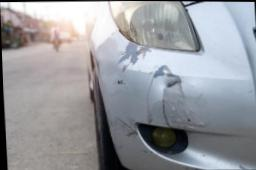Bumper: (86, 29, 256, 168)
